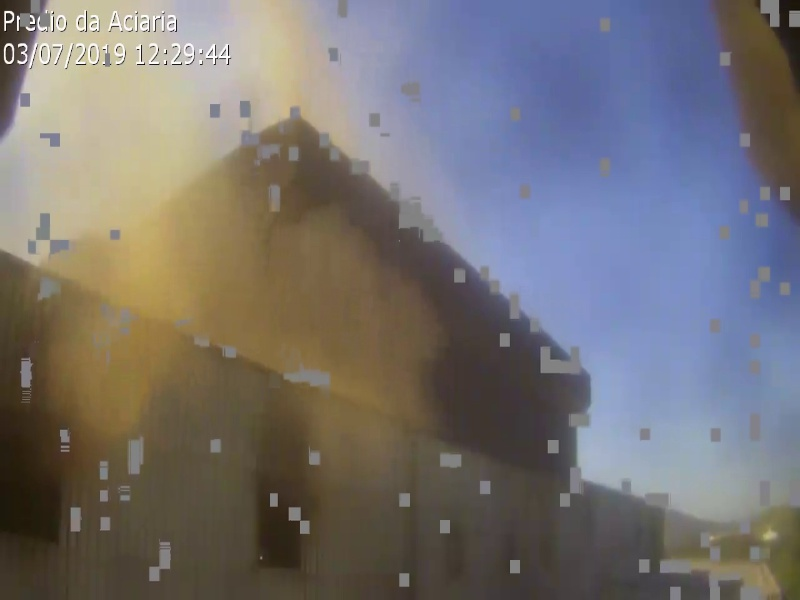Pessimo: (25, 23, 482, 547)
